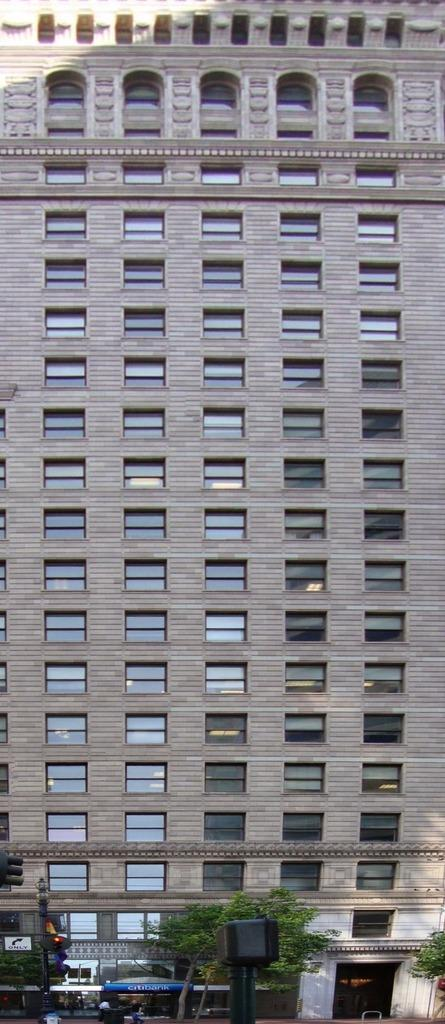window: (117, 912, 216, 942), (5, 913, 99, 941), (276, 73, 320, 114), (354, 74, 395, 113), (200, 72, 241, 111), (124, 72, 165, 111), (46, 70, 87, 109), (281, 259, 325, 290), (43, 260, 87, 291), (46, 211, 90, 241), (123, 211, 167, 241), (200, 212, 244, 242), (279, 211, 323, 241), (356, 215, 400, 245), (360, 262, 404, 292), (202, 261, 246, 291), (122, 263, 166, 293), (44, 309, 87, 339), (203, 310, 246, 340), (360, 312, 403, 342), (284, 359, 327, 389), (205, 358, 248, 388), (123, 409, 166, 439), (284, 409, 327, 439), (284, 460, 327, 490), (205, 459, 248, 489), (124, 509, 167, 539), (205, 562, 248, 592), (124, 560, 167, 590), (124, 613, 167, 643), (205, 613, 248, 643), (364, 613, 407, 643), (45, 664, 88, 694), (285, 764, 328, 794), (206, 763, 249, 793), (281, 813, 324, 843), (358, 861, 401, 891), (354, 910, 397, 940), (282, 310, 324, 340), (362, 359, 404, 389), (126, 358, 168, 388), (44, 358, 86, 388), (43, 410, 85, 440), (205, 408, 247, 438), (363, 410, 405, 440), (365, 459, 407, 489), (365, 563, 407, 593), (47, 612, 89, 642), (286, 614, 328, 644), (284, 662, 326, 692), (206, 663, 248, 693), (47, 714, 89, 744), (206, 714, 248, 744), (363, 714, 405, 744), (47, 813, 89, 843), (360, 814, 402, 844), (126, 863, 168, 893), (47, 863, 89, 893), (123, 461, 166, 490), (45, 461, 88, 490), (205, 511, 248, 540), (284, 511, 327, 540), (364, 512, 407, 541), (45, 561, 88, 590), (365, 666, 408, 695), (124, 666, 167, 695), (361, 765, 404, 794), (45, 763, 88, 792), (124, 310, 166, 339), (44, 512, 86, 541), (287, 562, 329, 591), (126, 716, 168, 745), (285, 716, 327, 745), (126, 765, 168, 794), (126, 812, 168, 841), (205, 812, 247, 841), (281, 862, 323, 891), (206, 862, 248, 891), (354, 165, 397, 190), (45, 163, 88, 187), (122, 163, 165, 187), (200, 164, 243, 188), (278, 164, 321, 188), (355, 131, 394, 144), (125, 128, 164, 141), (47, 128, 85, 141), (311, 15, 326, 47), (234, 13, 249, 45), (194, 13, 209, 45), (156, 13, 171, 45), (201, 129, 240, 141), (388, 17, 403, 48), (350, 16, 365, 47), (272, 14, 287, 45), (118, 14, 133, 45), (39, 17, 54, 48), (279, 129, 317, 141), (78, 15, 92, 46)
